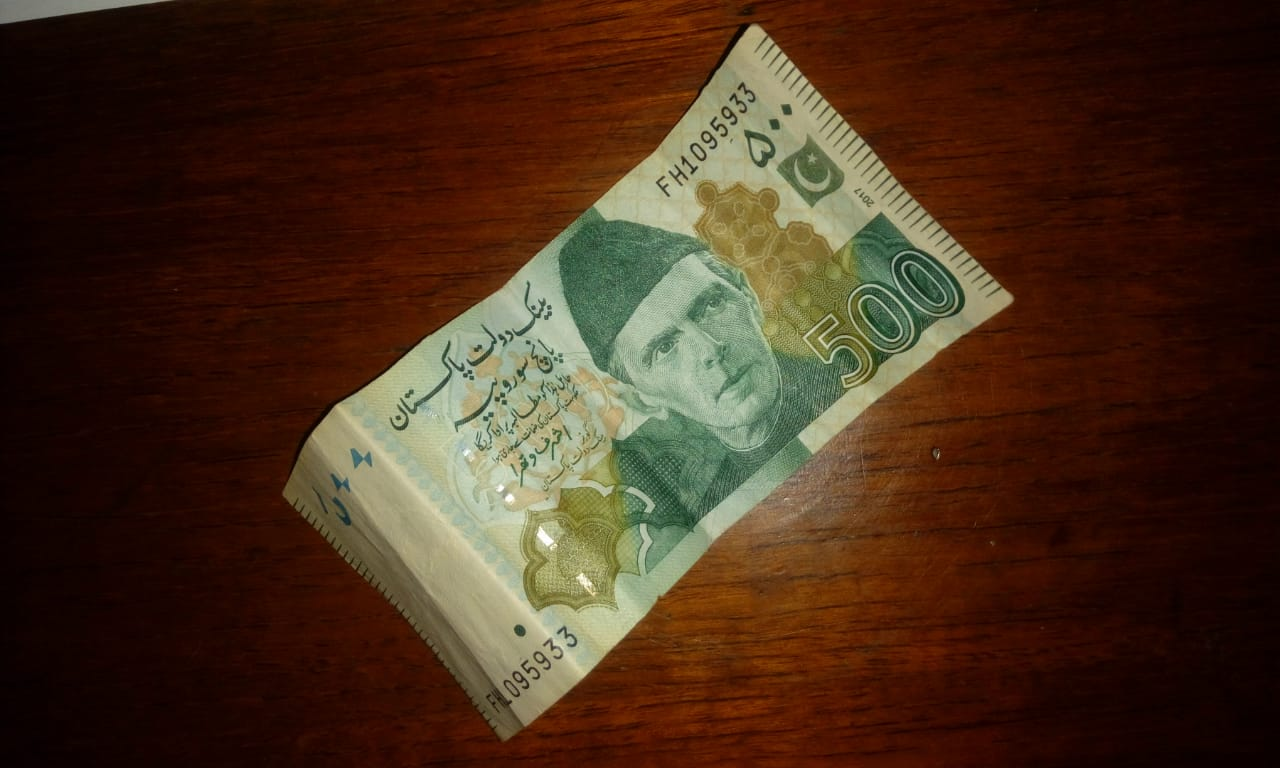500 rupee: (247, 22, 1029, 726)
